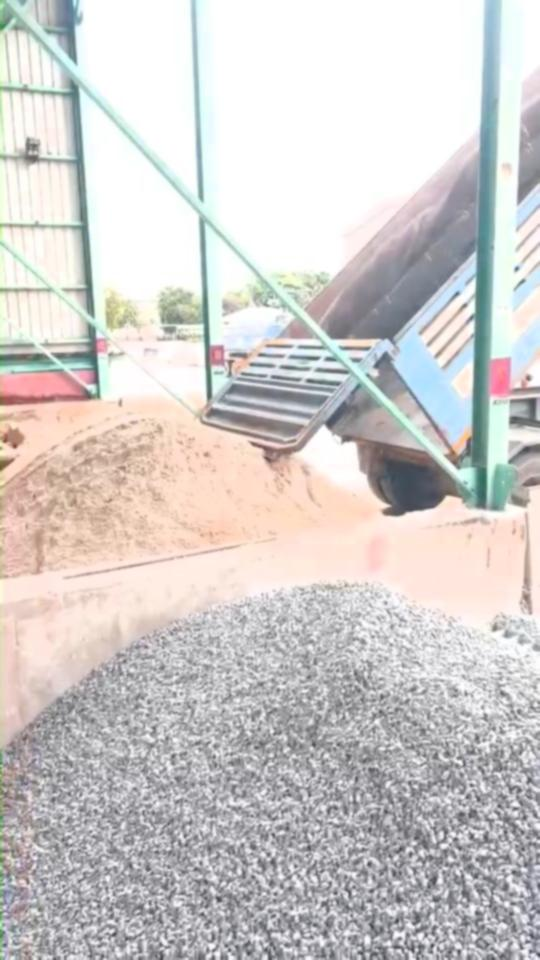gravel: (5, 583, 540, 959), (492, 613, 540, 651)
sand: (3, 411, 378, 576), (3, 419, 52, 450)
